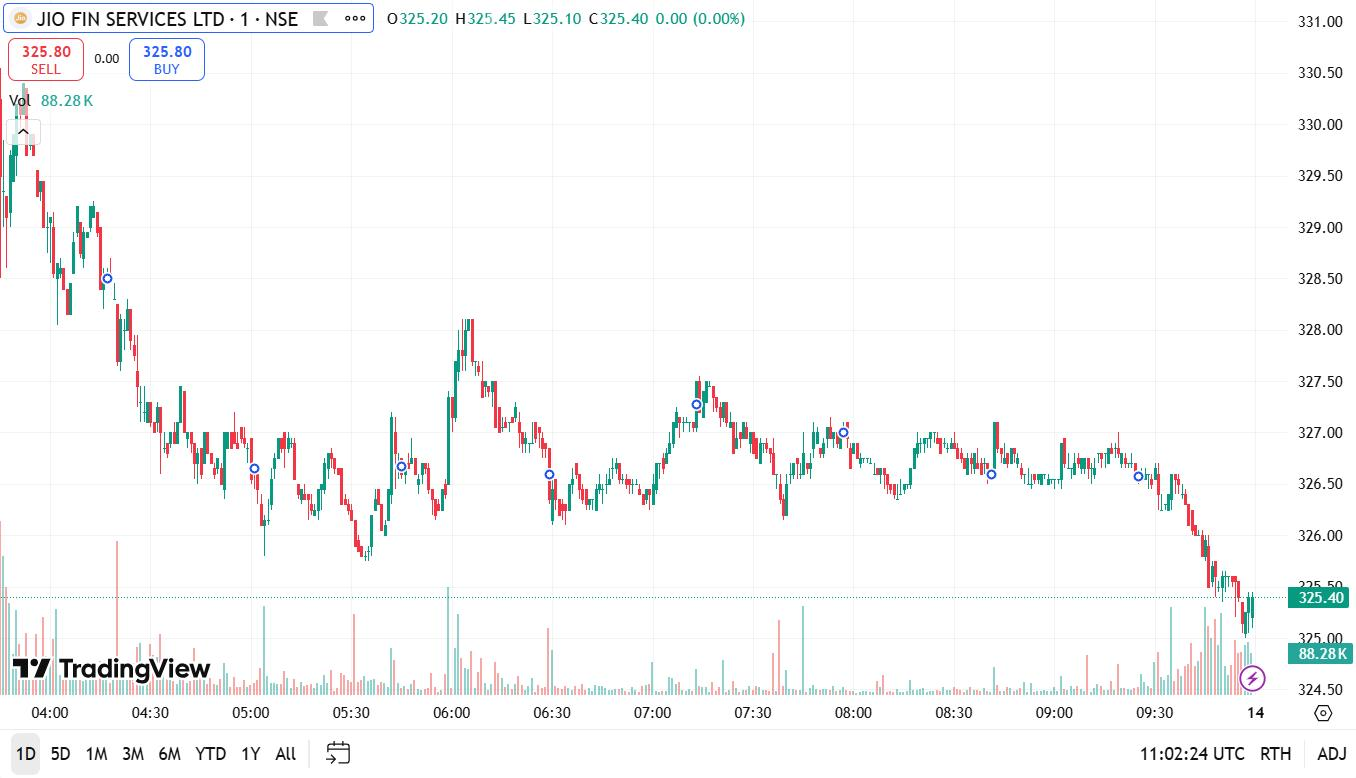Downtrend: (92, 197, 442, 583), (469, 318, 655, 544), (1174, 458, 1259, 628)
Uptrend: (659, 349, 708, 524), (778, 410, 836, 540)
